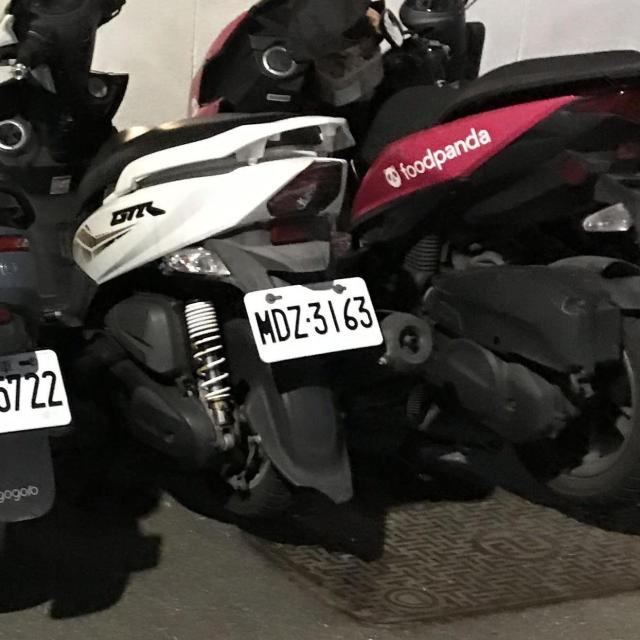W: (238, 263, 389, 369), (0, 340, 75, 447)
